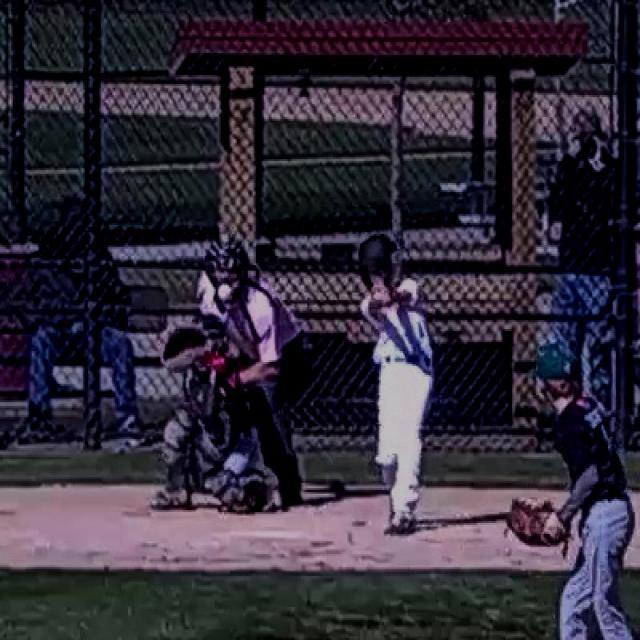baseball: (218, 284, 232, 300)
